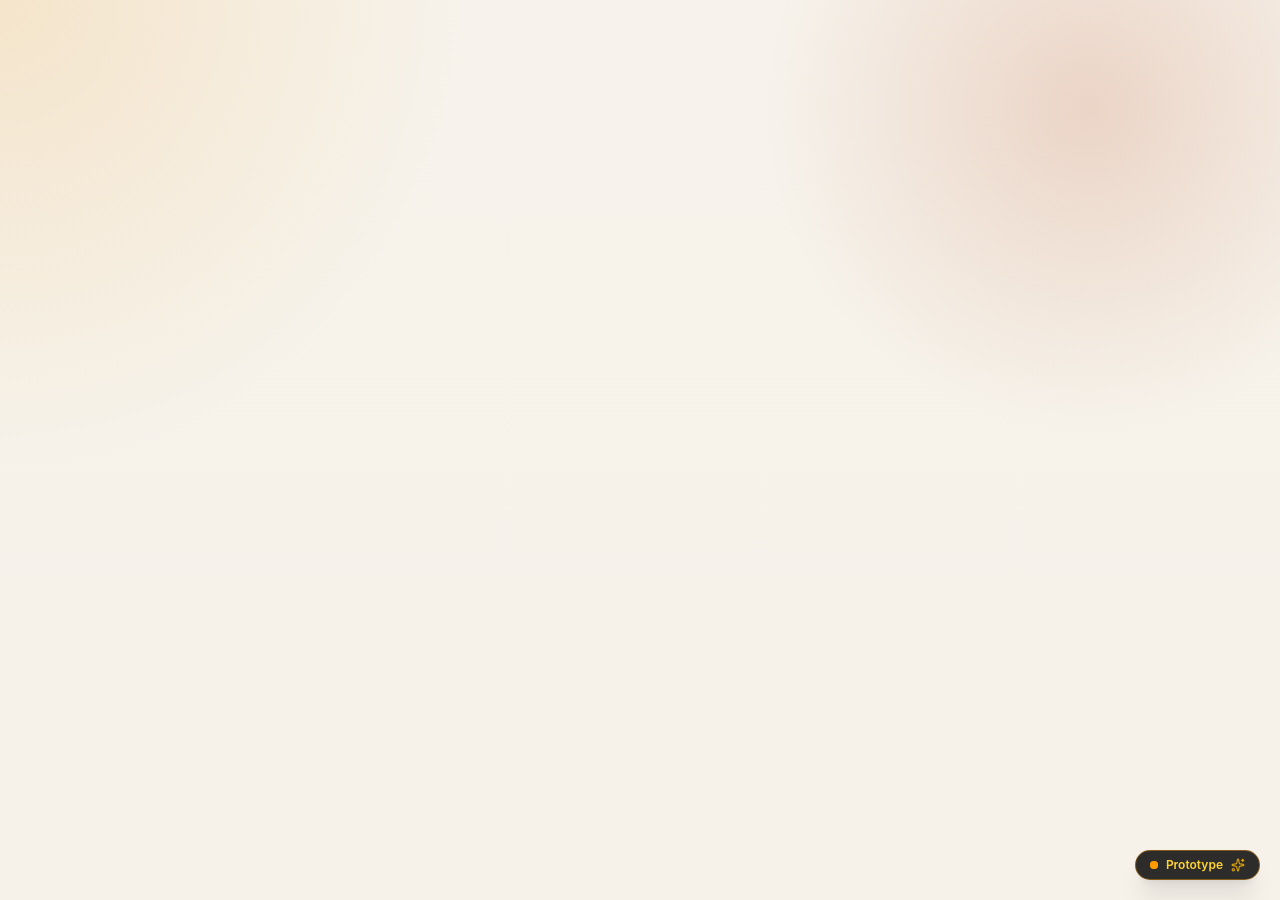
Test: FloatingPrototypeBadge › expands on click to display prototype notice and mailto support link
Click the button with aria-label "open prototype notice" at (1197, 865), box [1135, 850, 1260, 880]
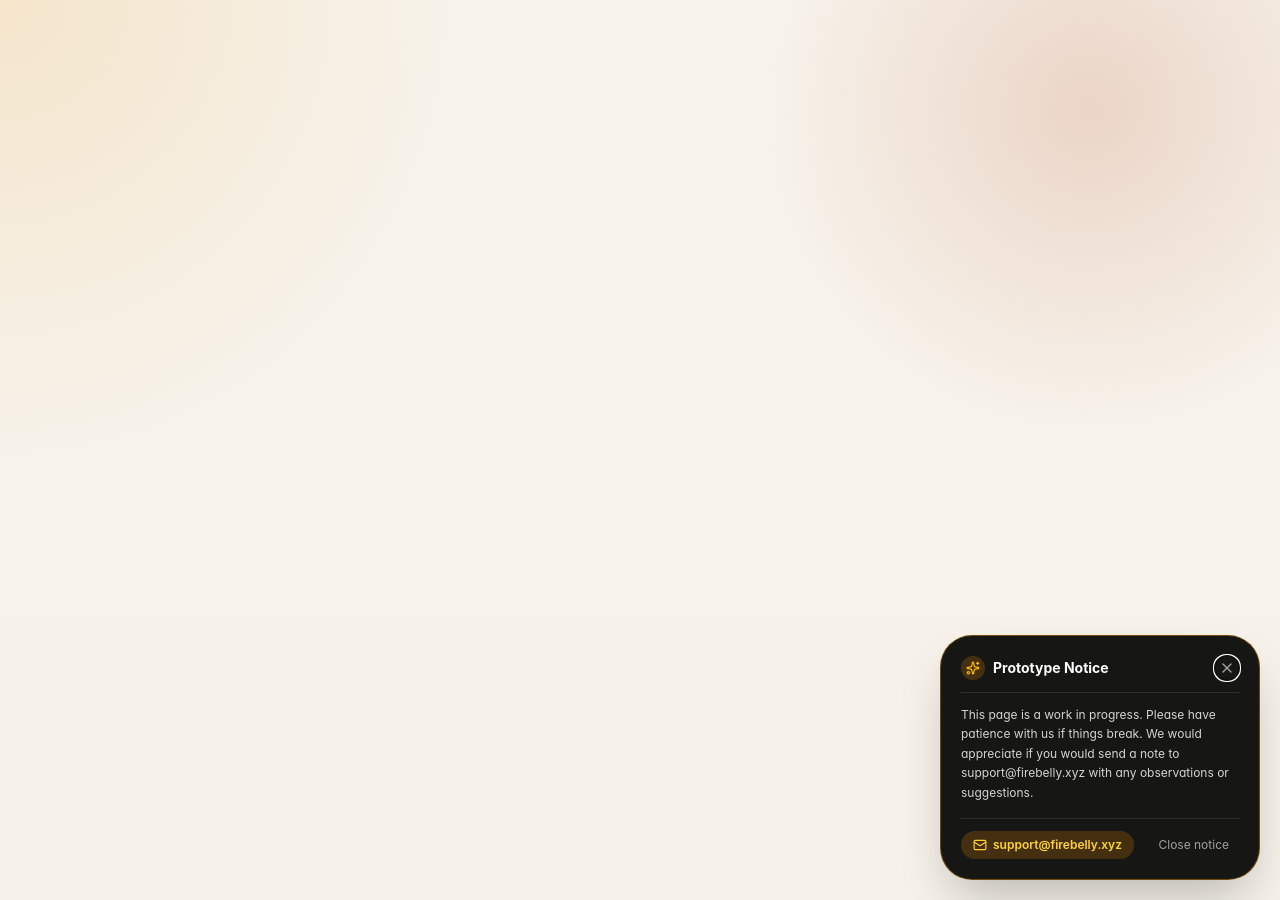
Check: the heading "Prototype Notice" is shown, box [993, 658, 1109, 678]
Check: the text "This page is a work in progress. Please have patience with us if things break. We would appreciate if you would send a n" is shown, box [961, 706, 1229, 800]
